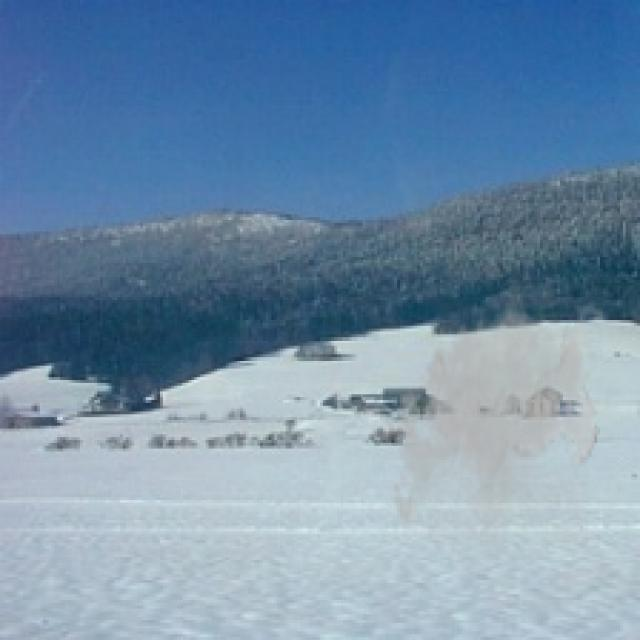smoke: (386, 294, 603, 560)
